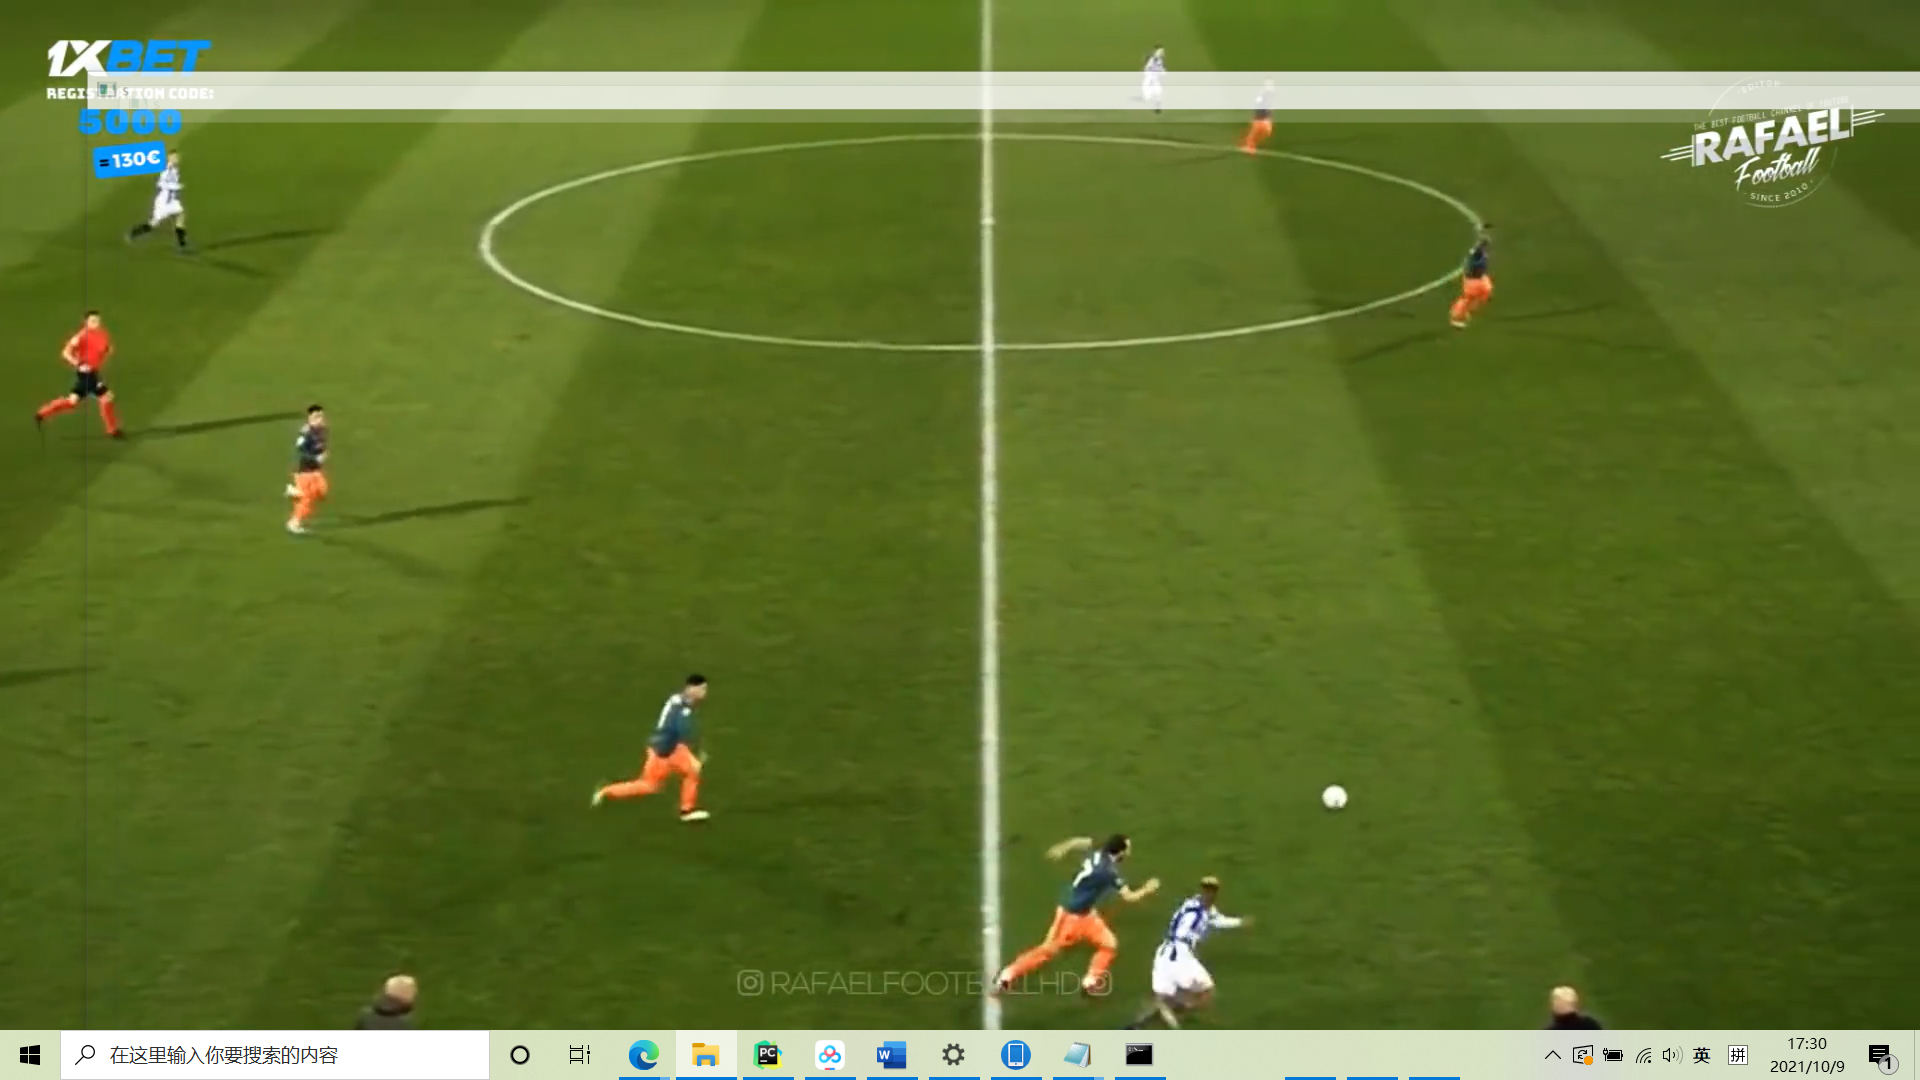ft: (1317, 782, 1352, 814)
